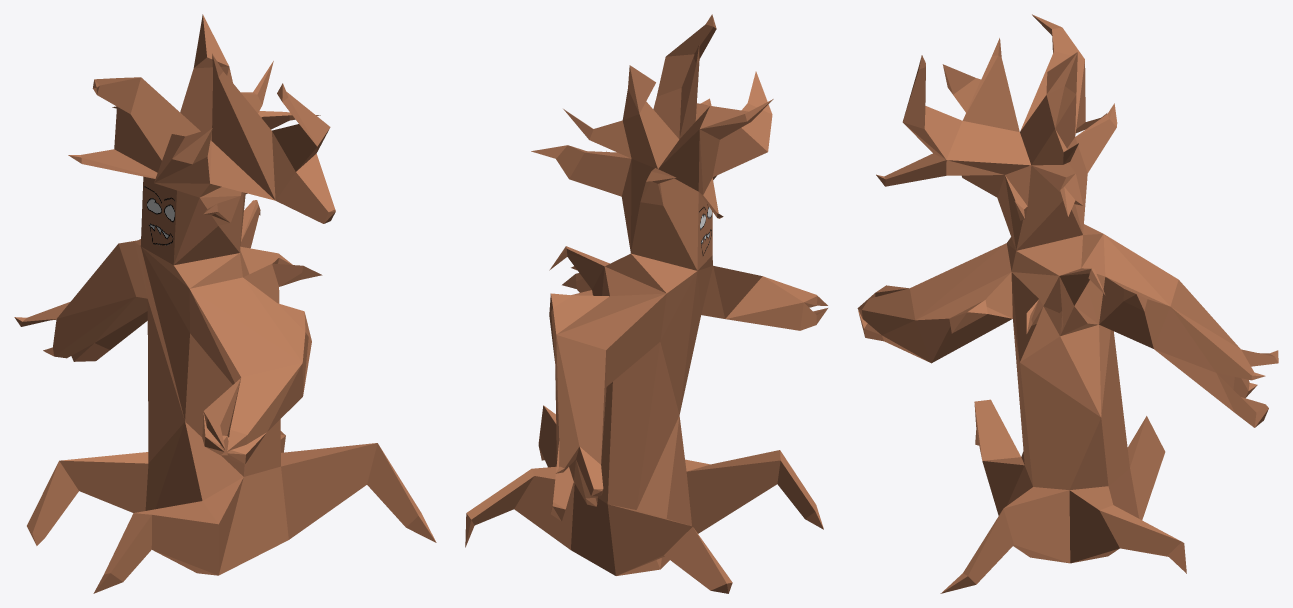
The model's file is TreeManEvil V2.5.fbx.
The picture shows the model from 3 angles, left to right: view 1: azimuth 30°, elevation 25°; view 2: azimuth 150°, elevation 25°; view 3: azimuth 270°, elevation 25°; orthographic projection. The views are drawn at different scales.
Parts seen in each view (by area): view 1: Cube; view 2: Cube; view 3: Cube.
Boxes of the visible parts, x1,y1,x2,y2 form: Cube: (14, 14, 436, 593); Cube: (465, 14, 827, 593); Cube: (857, 14, 1278, 593).
Size of the model in its own units: 1051 by 1334 by 845.
